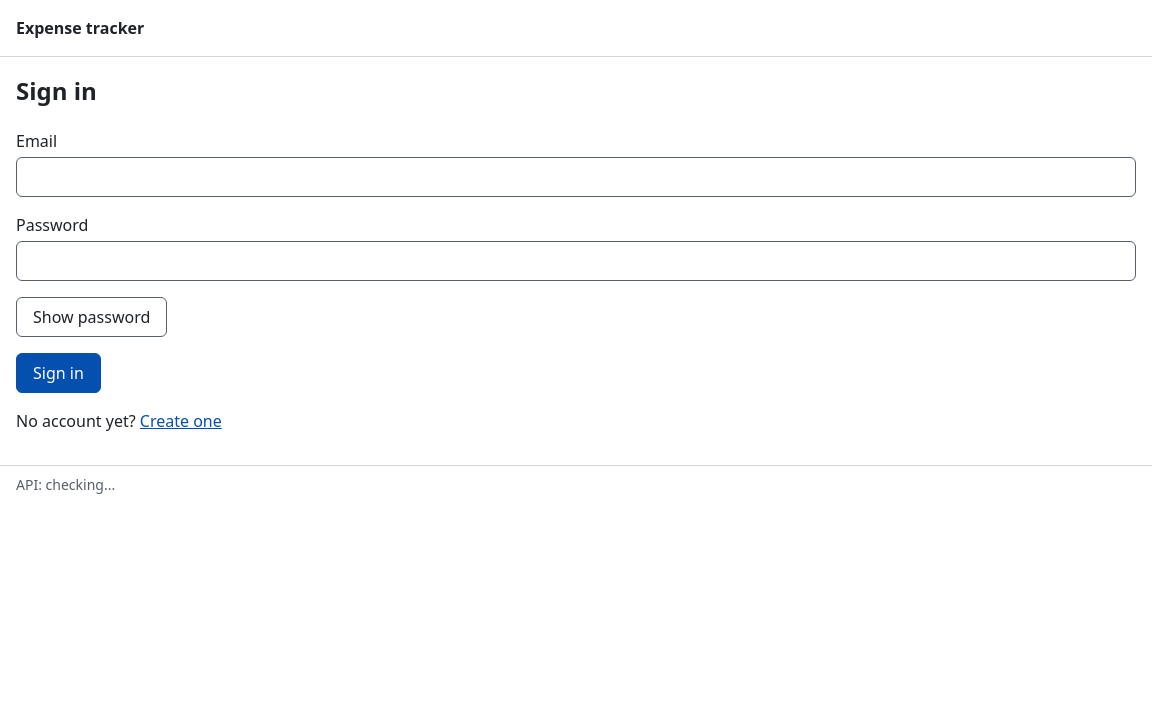
Test: sign-in and register over the real client › a 429 from sign-in reads Retry-After 897 as about 15 minutes
In the field with id "login-email": (576, 177) [16,157,1136,197], type "a@example.com"
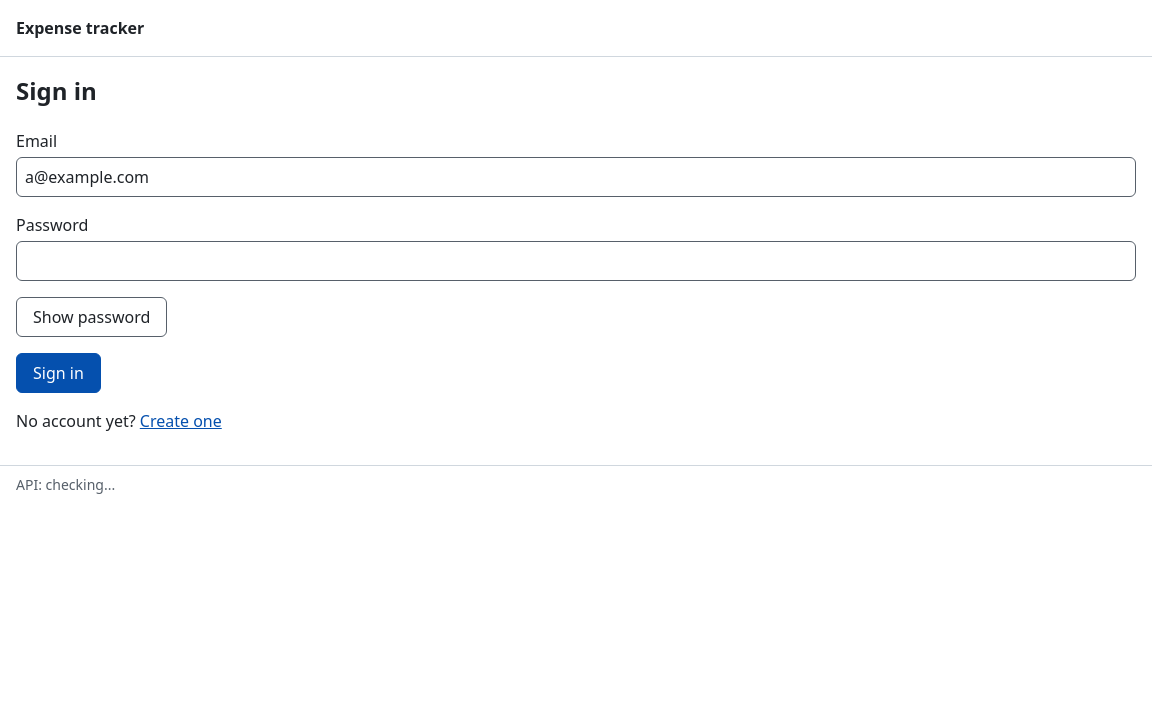
In the password field with id "login-password": (576, 261) [16,241,1136,281], type "whatever password"
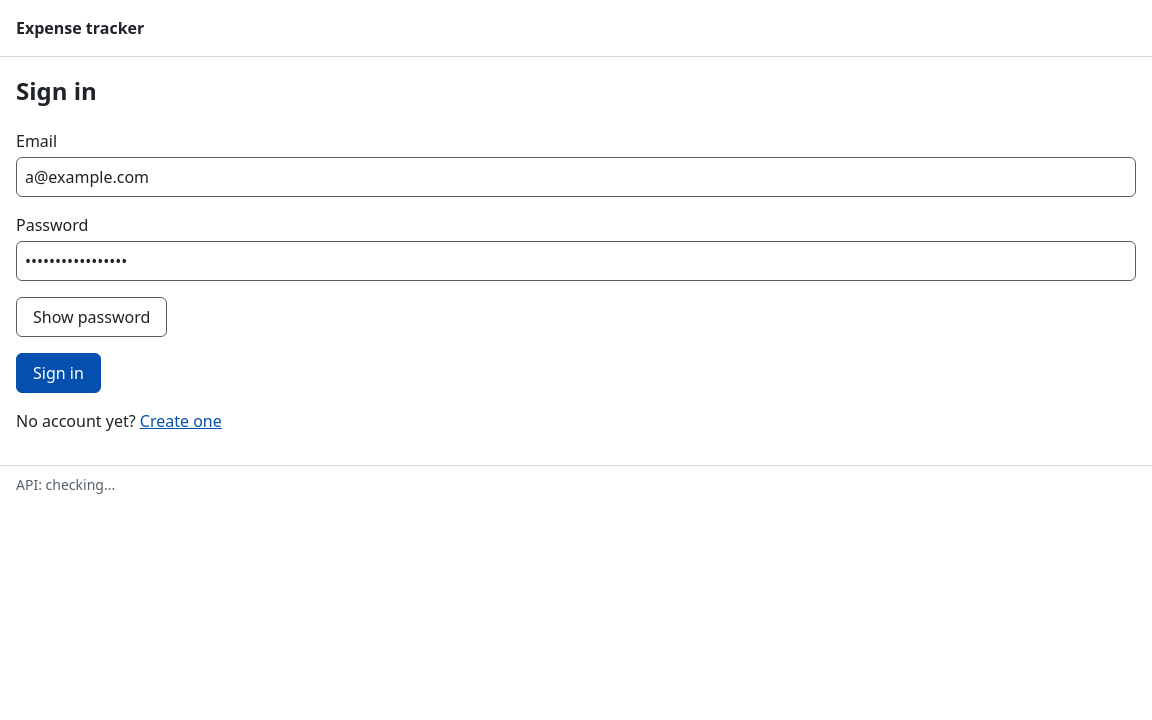
Submit the form, box [16,129,1136,393]
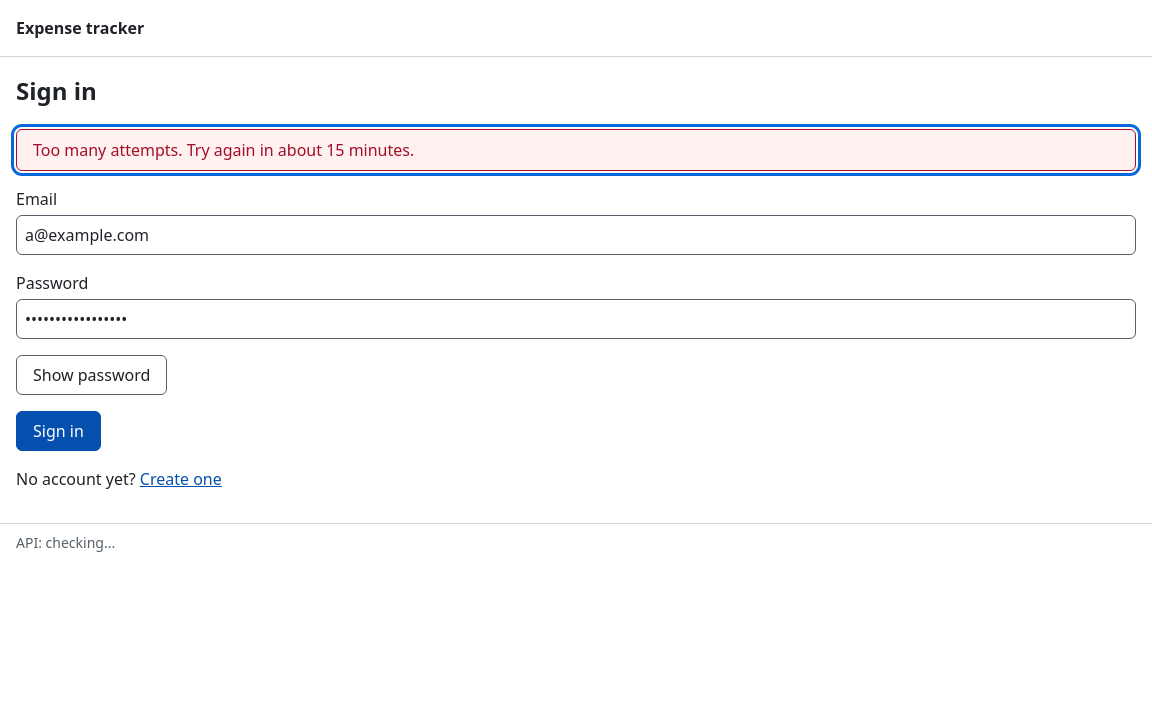
Now the message "Too many attempts. Try again in about 15 minutes." is shown, box [16,129,1136,171]
